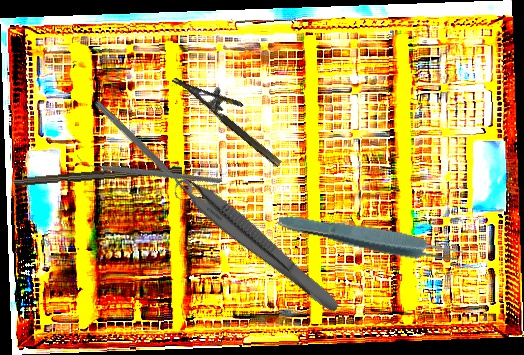Chopper: (76, 104, 223, 233)
Fixation Ring: (86, 96, 197, 205)
Needle Holder: (171, 59, 295, 169)
Scalpel Handle: (13, 161, 183, 189)
Tissue Forceps: (160, 159, 350, 316), (276, 209, 469, 270)
